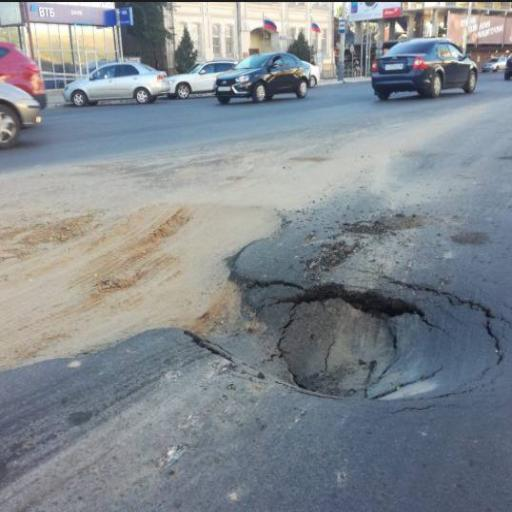construction_fence: (255, 272, 450, 416)
